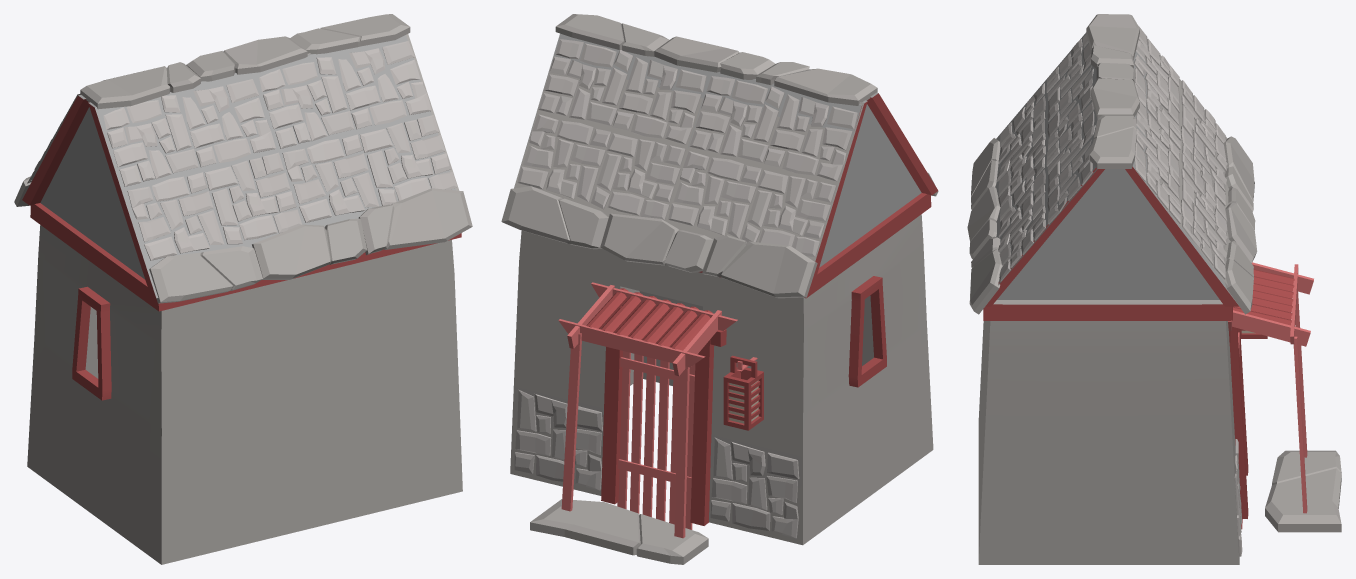
The model's file is ER_Asset_House.fbx.
3 renders of one model, left to right at view 1: azimuth 30°, elevation 25°; view 2: azimuth 150°, elevation 25°; view 3: azimuth 270°, elevation 25°, orthographic. The views are drawn at different scales.
Visible parts, largest first — view 1: pCube734; view 2: pCube734; view 3: pCube734.
Boxes of the visible parts, x1,y1,x2,y2 form: pCube734: [14, 14, 472, 564]; pCube734: [501, 14, 938, 564]; pCube734: [967, 14, 1341, 564].
Bounding box in the file's own units: 4.1 × 5.42 × 4.3.
